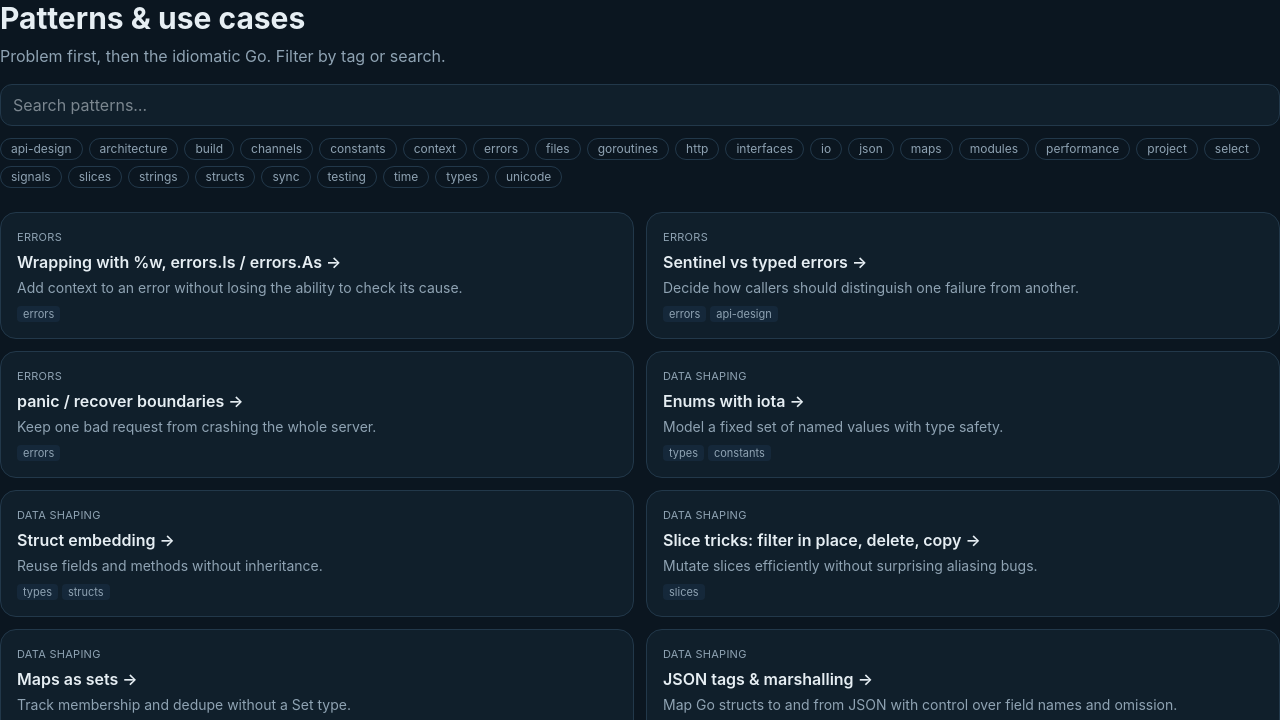
Test: lists every pattern, filters by tag and by search
This screenshot has width=1280, height=720.
Click the button "context": (435, 149) [403,138,467,160]
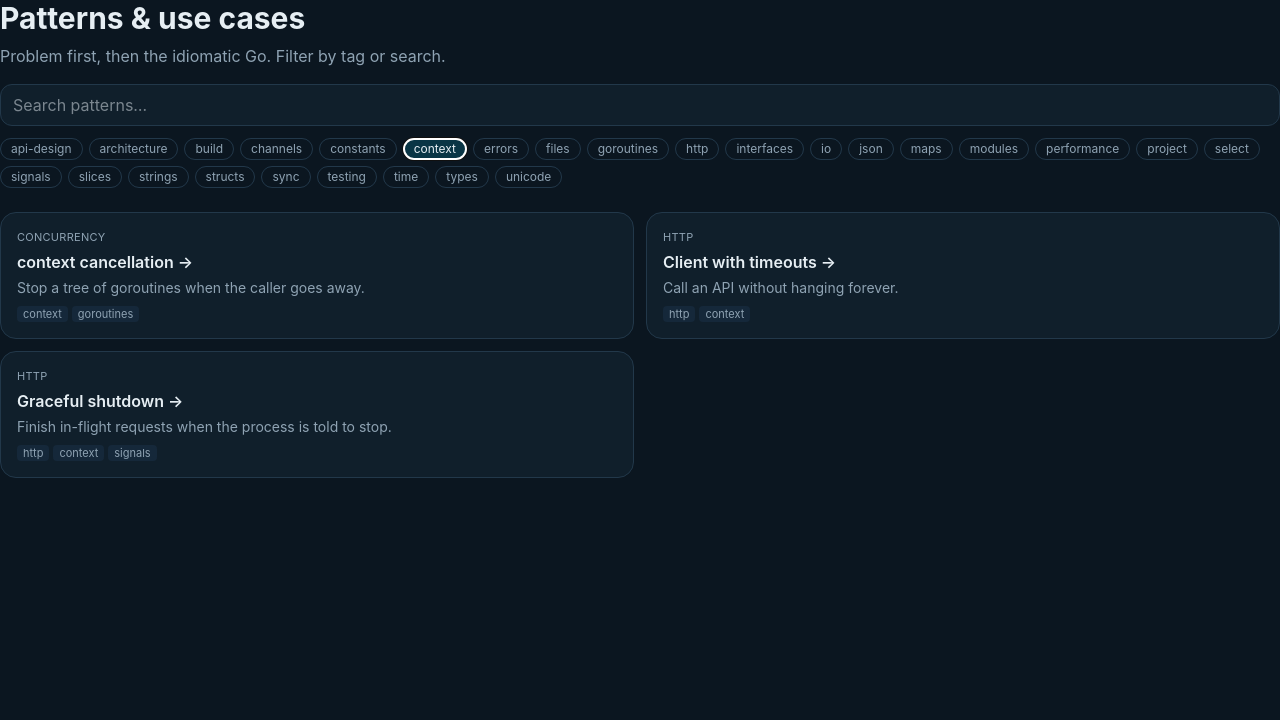
Click the button "context": (435, 149) [403,138,467,160]
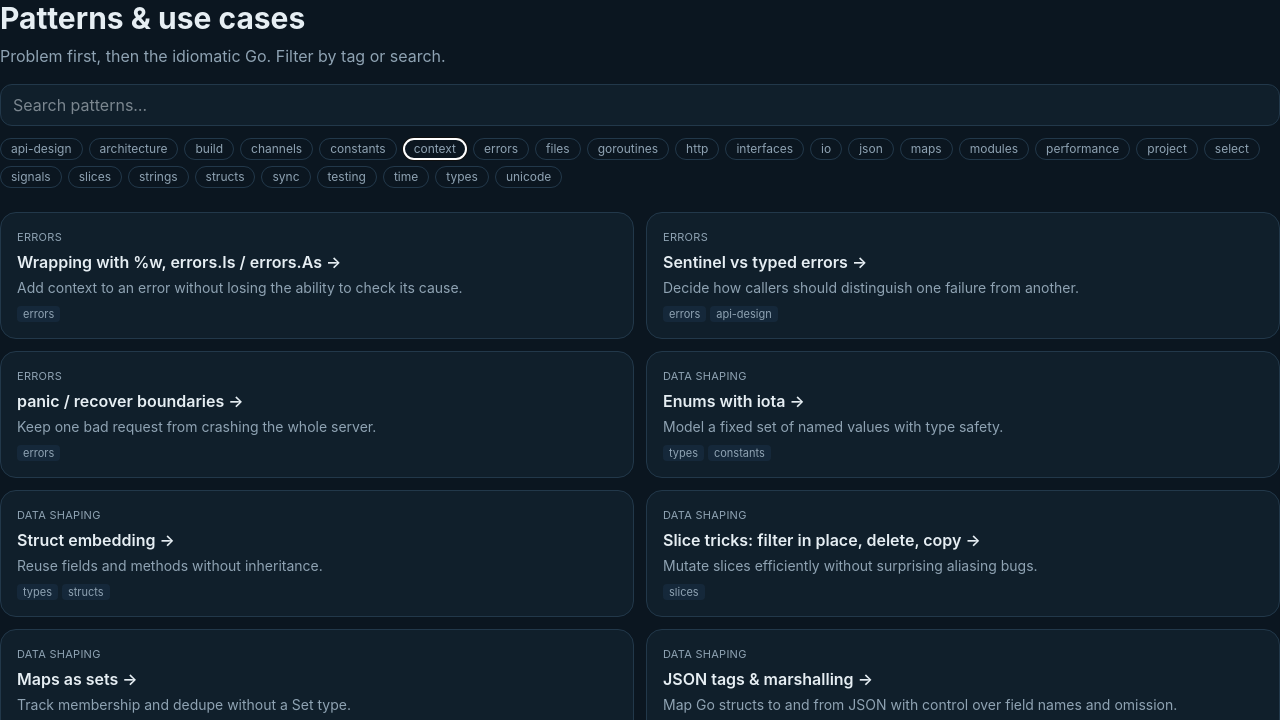
In the search field: (640, 105) [0,84,1279,126], type "worker"
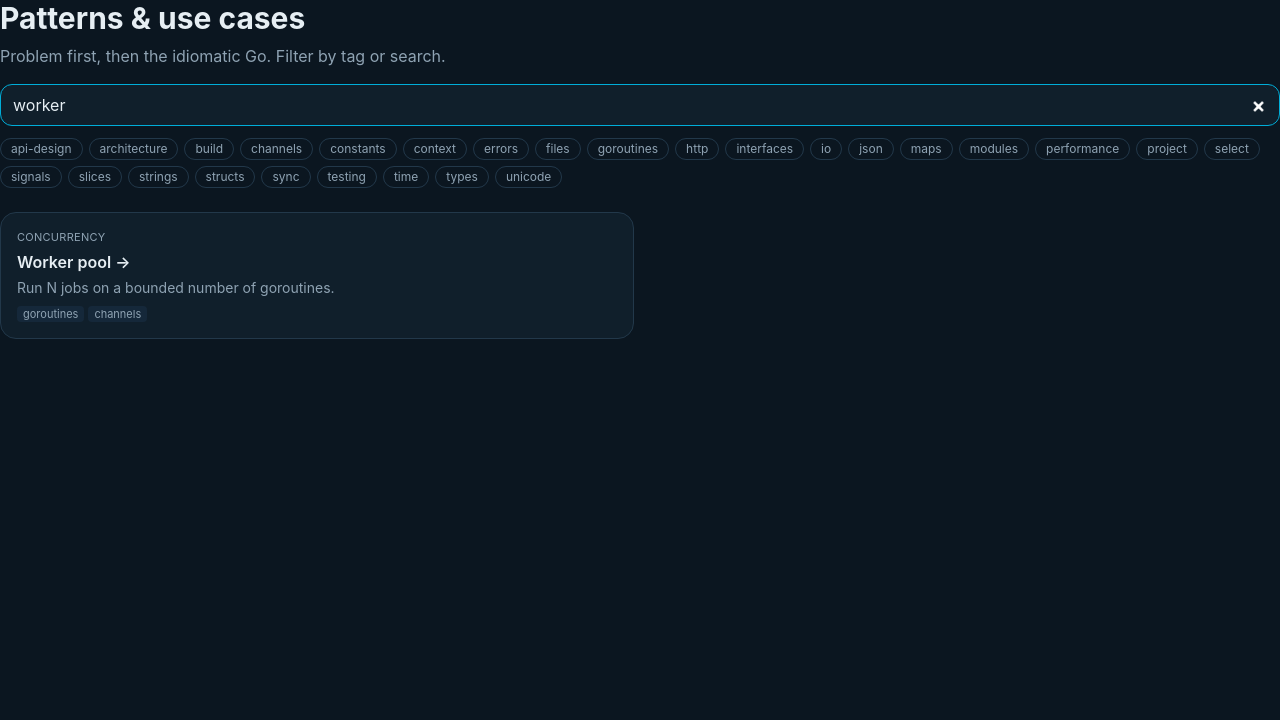
expect the number of links "→" is 1: met, box [0,212,634,339]
